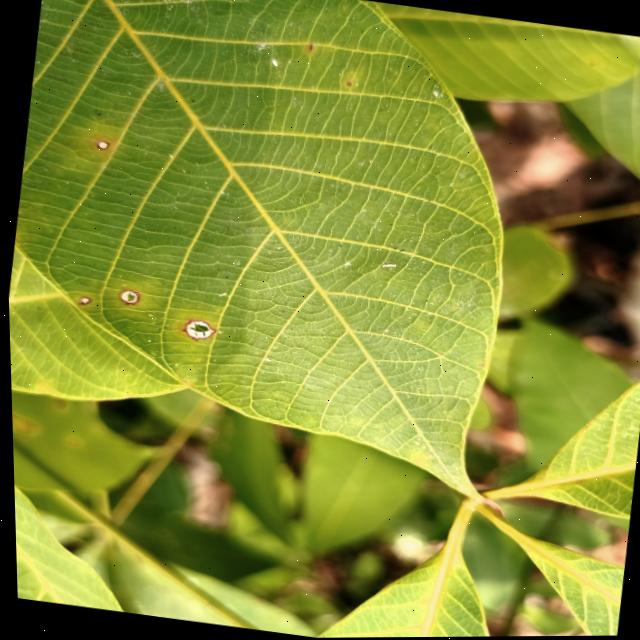Colletotrichum: (180, 319, 216, 343), (117, 288, 140, 307), (96, 141, 109, 151), (79, 298, 90, 307)
